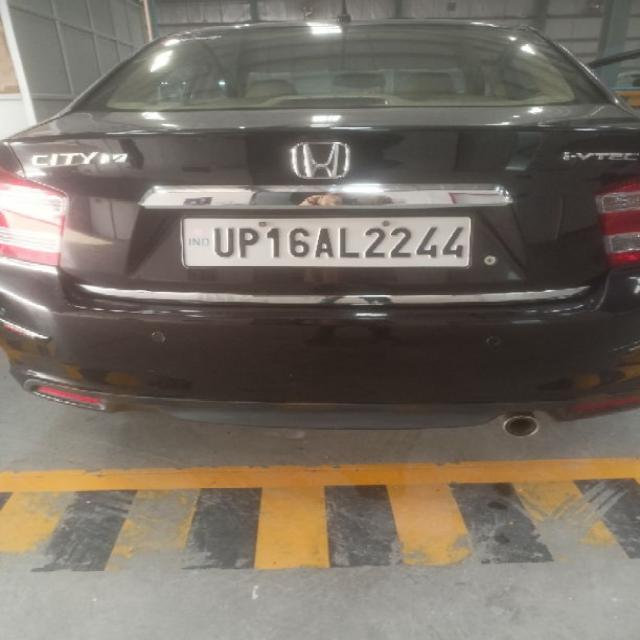license_plate: (178, 213, 474, 269)
